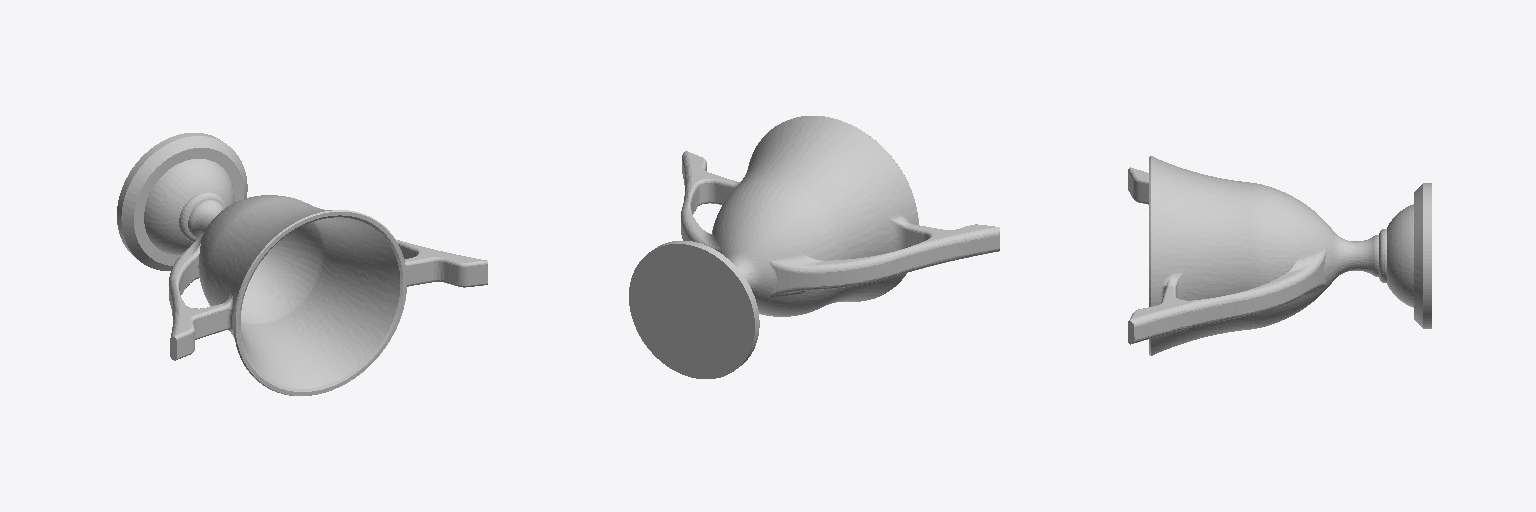
File: trophycup.obj
3 views of the same model, side by side, from view 1: azimuth 30°, elevation 25°; view 2: azimuth 150°, elevation 25°; view 3: azimuth 270°, elevation 25° (orthographic).
Parts seen in each view (by area): view 1: Object.1; view 2: Object.1; view 3: Object.1.
Boxes of the visible parts, x1,y1,x2,y2 form: Object.1: [117, 133, 487, 395]; Object.1: [629, 116, 999, 378]; Object.1: [1128, 156, 1431, 355].
Bounding box in the file's own units: 64.08 × 34.92 × 53.